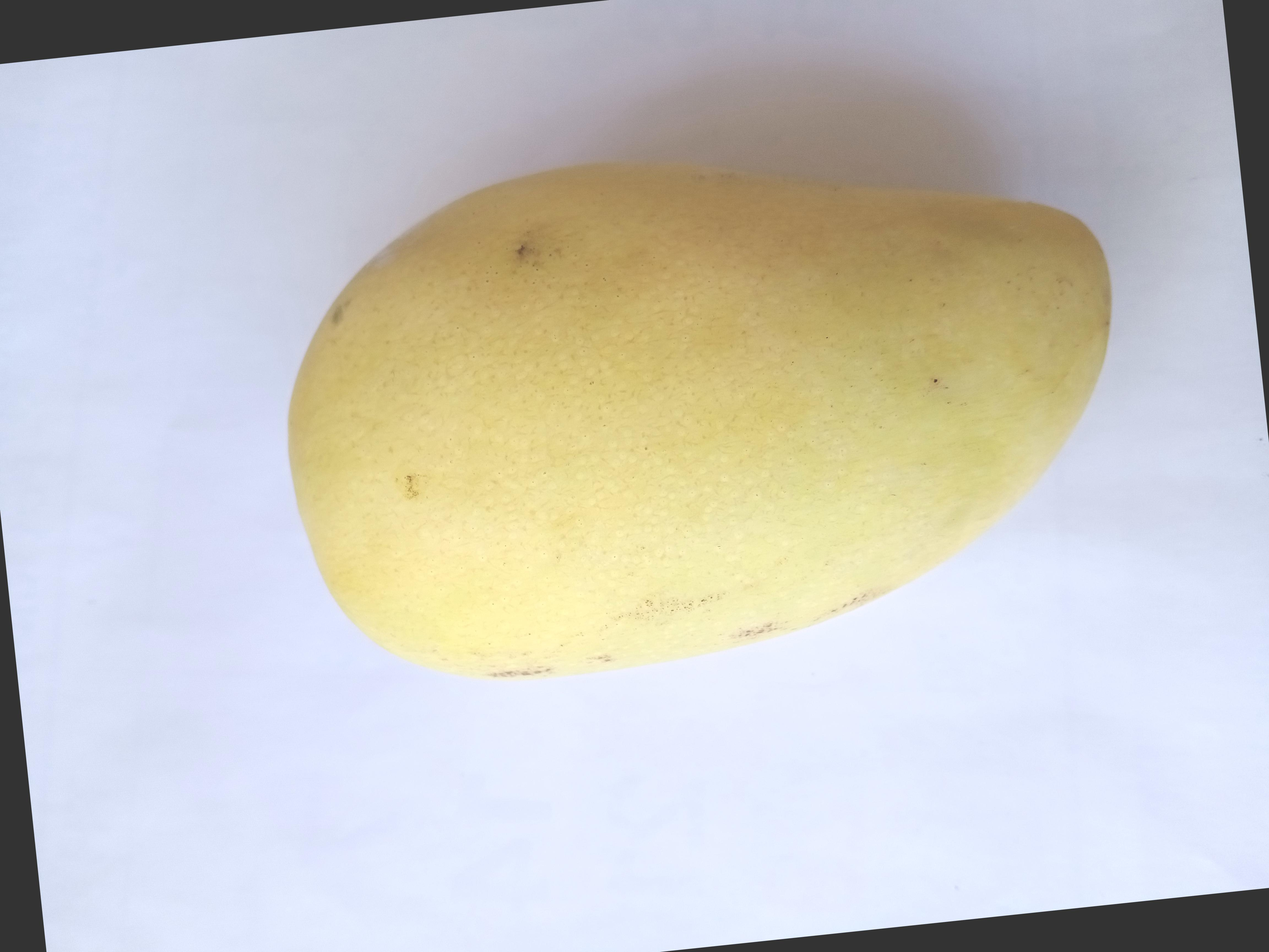Mango Ripe: (146, 170, 1126, 837)
